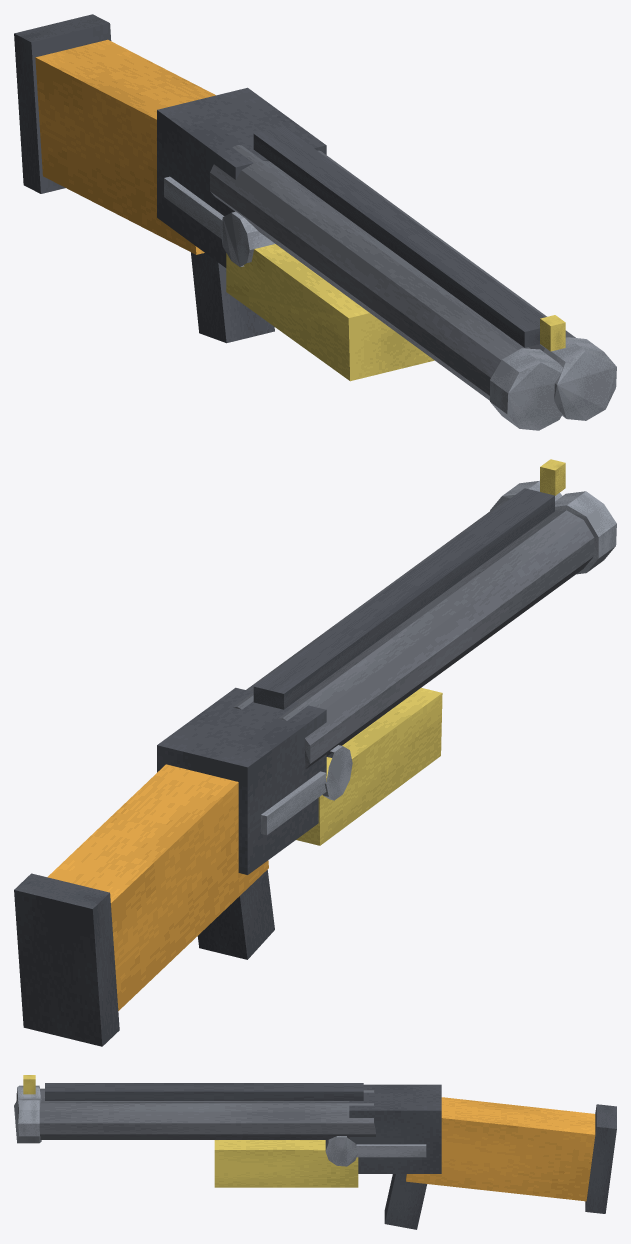
The model's file is weapon_dbl.glb.
The picture shows the model from 3 angles, top to bottom: view 1: azimuth 30°, elevation 25°; view 2: azimuth 150°, elevation 25°; view 3: azimuth 270°, elevation 25°; orthographic projection. The views are drawn at different scales.
Visible parts, largest first — view 1: weapon_dbl; view 2: weapon_dbl; view 3: weapon_dbl.
Part boxes in pixels (box(x1,y1,x2,y2)): weapon_dbl: box(14, 14, 616, 430); weapon_dbl: box(14, 459, 616, 1046); weapon_dbl: box(14, 1075, 616, 1229).
Bounding box in the file's own units: 0.3596 × 0.7825 × 2.93.
1 material, 1 textured.
